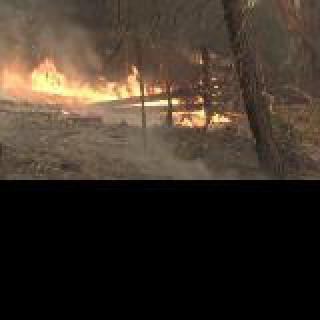fire: (0, 56, 180, 104), (174, 110, 230, 126)
